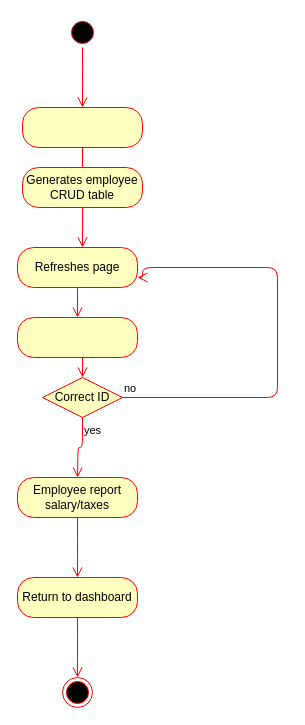
Image size: 305x725. Some labels were removed from this diagram. Here are the shapes that lost their labels. From the top down, the centre of each, then its label:
At pixel 82 127: "Accountant logs in".
At pixel 77 337: "Selects Employee".
